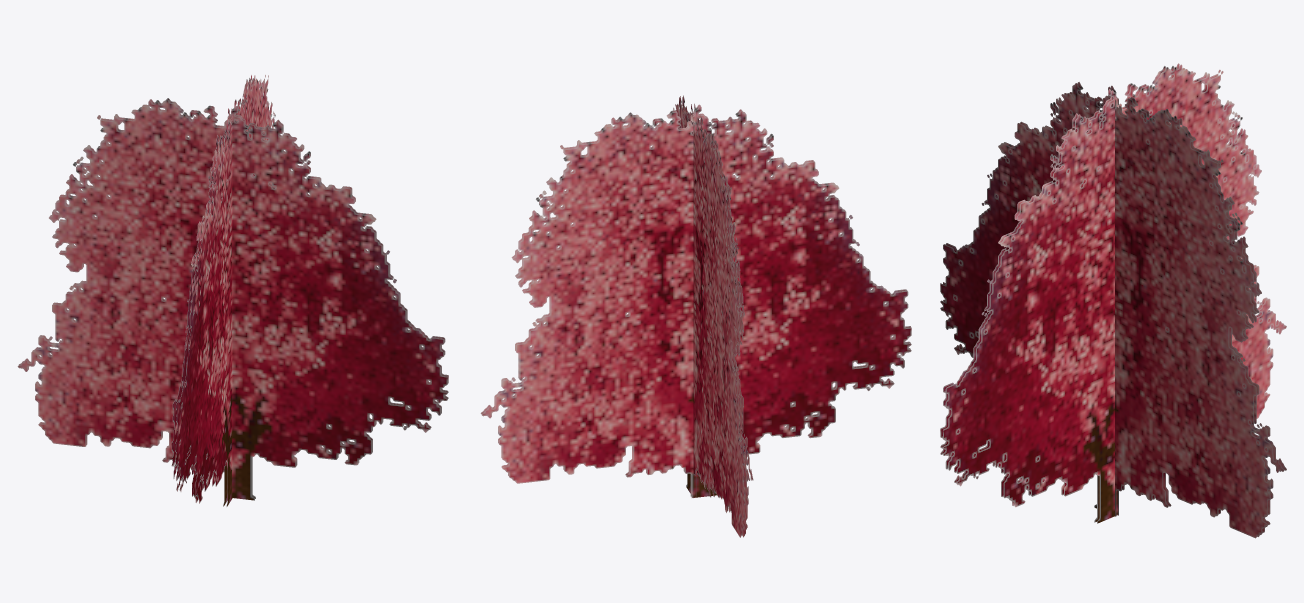
The model's file is tree070.fbx.
3 views of the same model, side by side, from view 1: azimuth 30°, elevation 25°; view 2: azimuth 150°, elevation 25°; view 3: azimuth 270°, elevation 25° (orthographic). The views are drawn at different scales.
Visible parts, largest first — view 1: tree070; view 2: tree070; view 3: tree070.
Part boxes in pixels (left/top/right/bottom): tree070: left=17, top=75, right=448, bottom=506; tree070: left=480, top=95, right=911, bottom=537; tree070: left=940, top=63, right=1286, bottom=538.
Size of the model in its own units: 241 by 335 by 241.
Materials: 1 (1 with a texture image).
